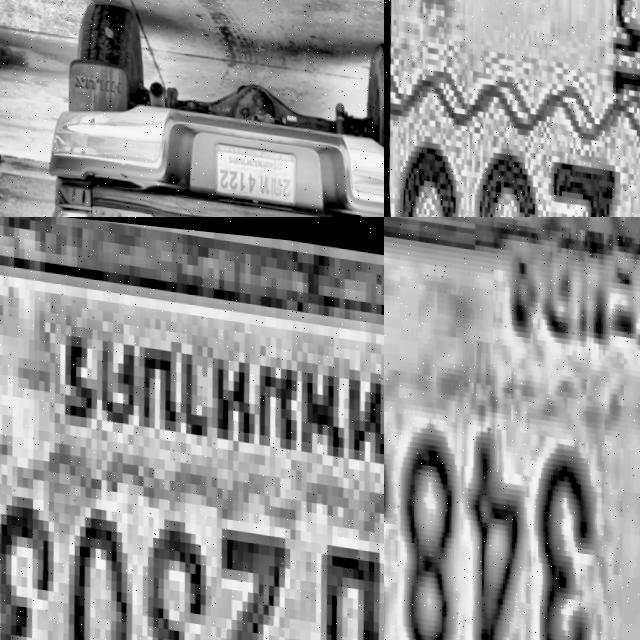license-plate: (0, 217, 384, 640), (384, 217, 640, 640), (384, 0, 640, 217), (206, 131, 299, 205)
